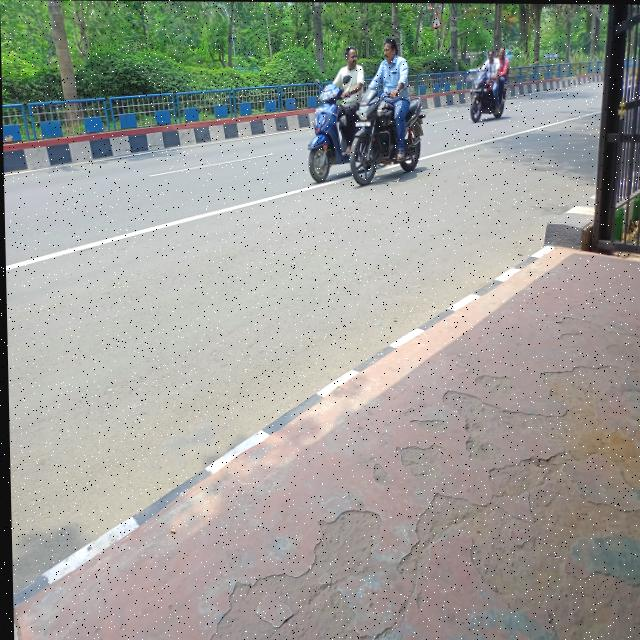bike: (350, 90, 435, 190), (301, 81, 348, 183), (460, 67, 517, 126)
